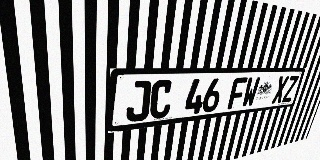4: (184, 79, 207, 115)
6: (201, 78, 223, 113)
C: (149, 80, 174, 120)
F: (227, 77, 248, 110)
J: (125, 80, 152, 123)
W: (241, 77, 261, 108)
X: (271, 76, 289, 104)
Z: (282, 76, 299, 102)
